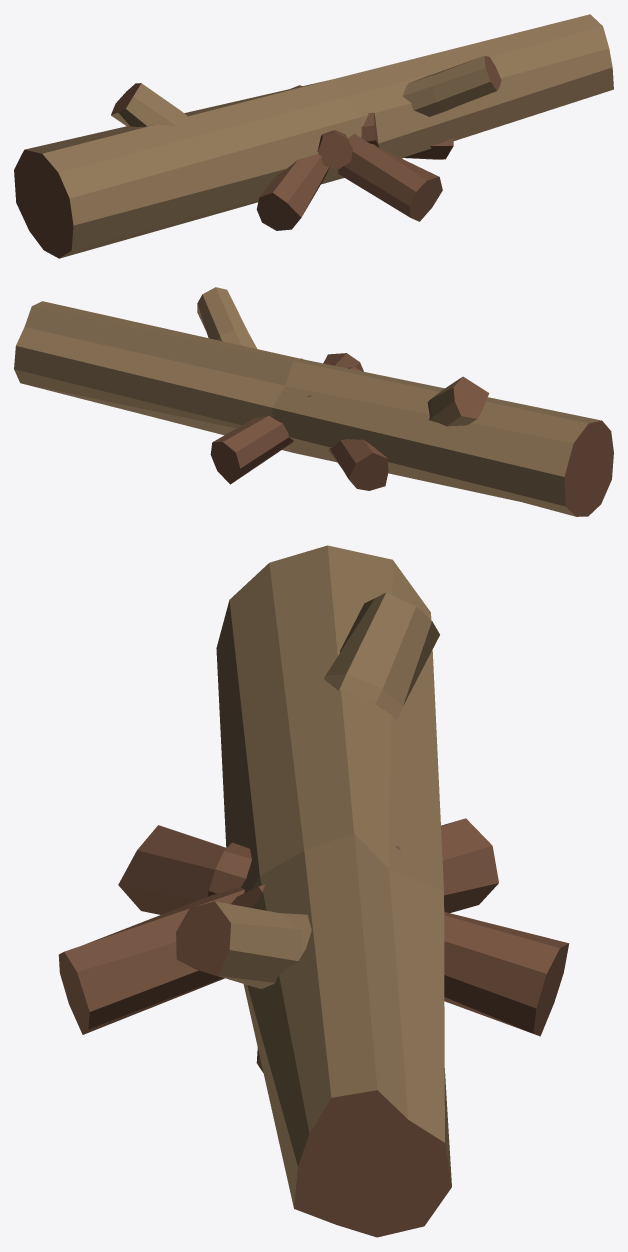
The model's file is SM_Driftwood.glb.
3 views of the same model, one above another, from view 1: azimuth 30°, elevation 25°; view 2: azimuth 150°, elevation 25°; view 3: azimuth 270°, elevation 25° (orthographic). The views are drawn at different scales.
Parts seen in each view (by area): view 1: SM_Driftwood, SM_CampfireLogs; view 2: SM_Driftwood, SM_CampfireLogs; view 3: SM_Driftwood, SM_CampfireLogs.
Boxes of the visible parts, bbox=[...] form: SM_Driftwood: bbox=[14, 14, 613, 258]; SM_CampfireLogs: bbox=[256, 85, 453, 230]; SM_Driftwood: bbox=[14, 287, 613, 516]; SM_CampfireLogs: bbox=[210, 353, 388, 490]; SM_Driftwood: bbox=[176, 545, 451, 1237]; SM_CampfireLogs: bbox=[58, 818, 569, 1072].
Bounding box in the file's own units: 2.82 × 0.6258 × 1.14.
